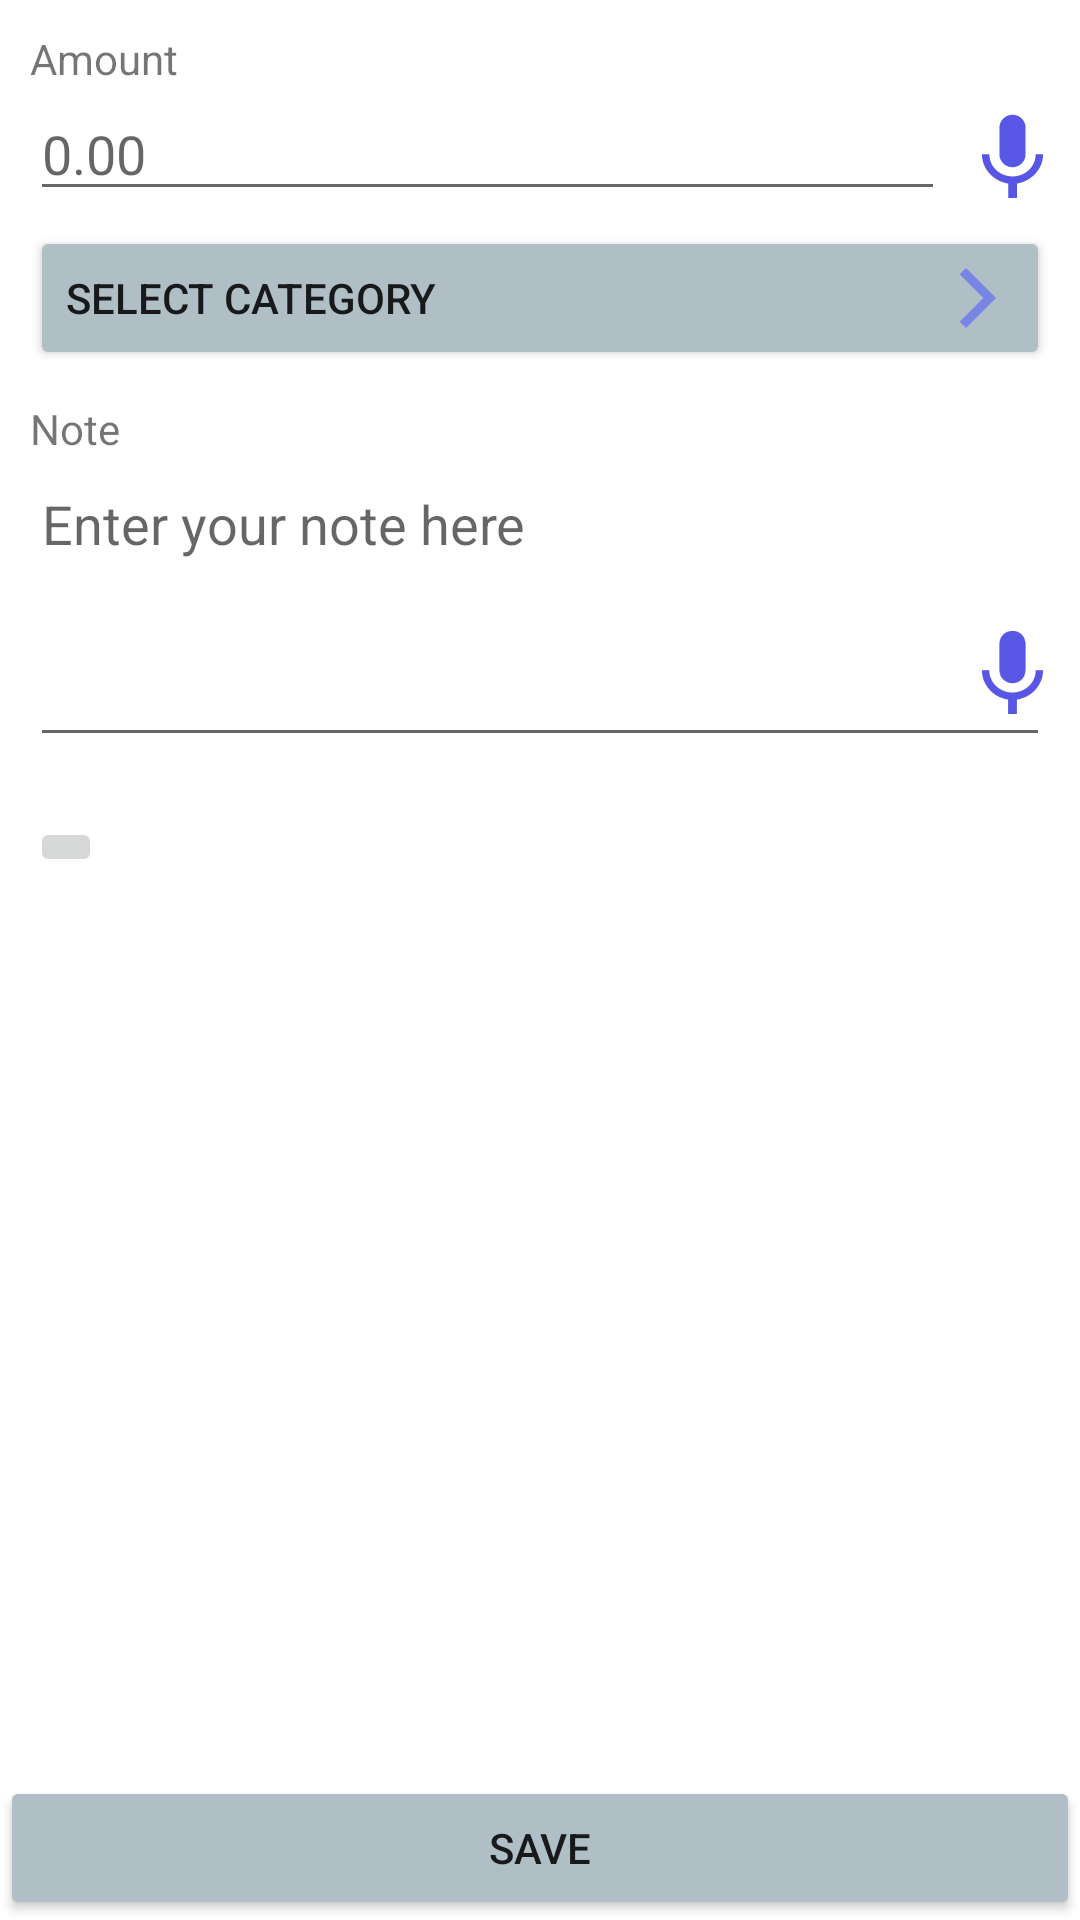

Where to tap for icons on this 1080×1920 app screen, as (x,y):
mic: (1012,156), (1012,672)
